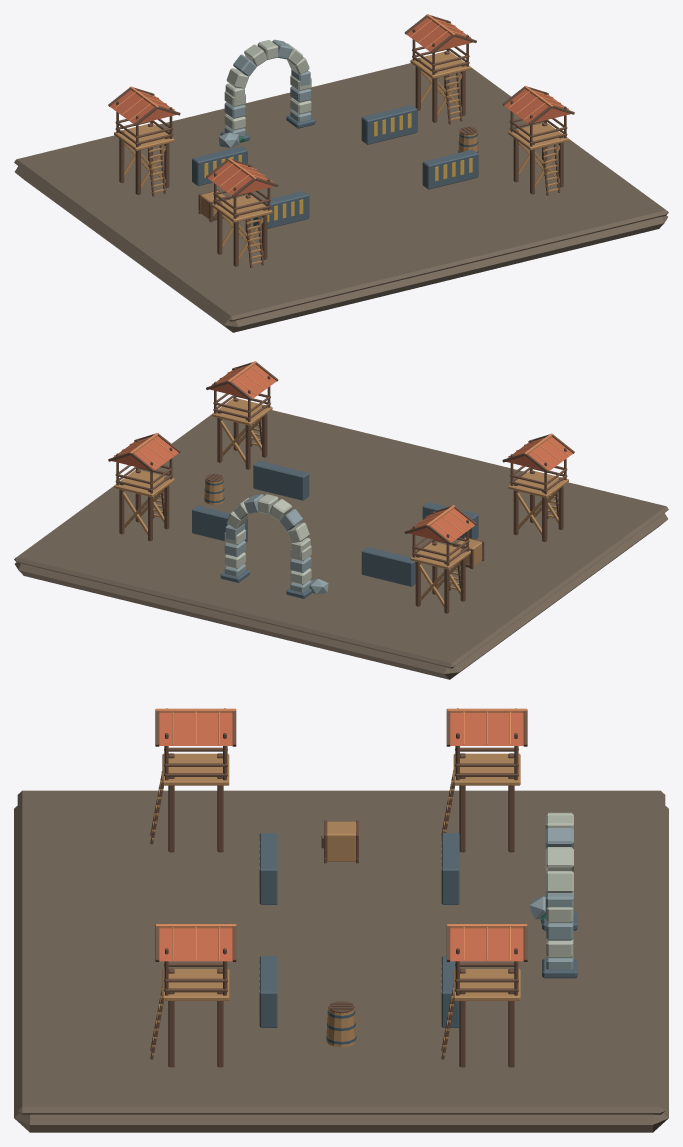
Rendered from world-arena.glb.
The picture shows the model from 3 angles, top to bottom: view 1: azimuth 30°, elevation 25°; view 2: azimuth 150°, elevation 25°; view 3: azimuth 270°, elevation 25°; orthographic projection. The views are drawn at different scales.
Visible parts, largest first — view 1: terrain-top, terrain-stratum, barrier.003, barrier.004, tower-canopy.003, tower-canopy.002, tower-canopy.004, tower-canopy.001, barrier.001, barrier.002, tower-deck.001, tower-deck.004 (+2 smaller); view 2: terrain-top, terrain-stratum, barrier.003, barrier.002, tower-canopy.004, tower-canopy.001, tower-canopy.003, tower-canopy.002, barrier.004, tower-deck.002, tower-deck.003, tower-deck.004 (+2 smaller); view 3: terrain-top, terrain-stratum, tower-canopy.003, tower-canopy.004, tower-canopy.001, tower-canopy.002, tower-deck.003, tower-deck.004, tower-deck.001, tower-deck.002, barrier.001, barrier.002 (+6 smaller).
Boxes of the visible parts, x1=… form: terrain-top: x1=14, y1=63, x2=668, y2=321; terrain-stratum: x1=15, y1=166, x2=667, y2=332; barrier.003: x1=422, y1=149, x2=478, y2=189; barrier.004: x1=361, y1=105, x2=417, y2=144; tower-canopy.003: x1=504, y1=89, x2=570, y2=123; tower-canopy.002: x1=109, y1=90, x2=176, y2=123; tower-canopy.004: x1=406, y1=17, x2=472, y2=51; tower-canopy.001: x1=207, y1=161, x2=273, y2=195; barrier.001: x1=253, y1=191, x2=309, y2=230; barrier.002: x1=192, y1=146, x2=247, y2=186; tower-deck.001: x1=212, y1=195, x2=272, y2=222; tower-deck.004: x1=410, y1=51, x2=470, y2=78; terrain-top: x1=14, y1=410, x2=668, y2=668; terrain-stratum: x1=15, y1=513, x2=667, y2=679; barrier.003: x1=253, y1=460, x2=309, y2=500; barrier.002: x1=361, y1=547, x2=415, y2=586; tower-canopy.004: x1=112, y1=436, x2=178, y2=470; tower-canopy.001: x1=506, y1=437, x2=573, y2=470; tower-canopy.003: x1=210, y1=364, x2=276, y2=398; tower-canopy.002: x1=409, y1=508, x2=475, y2=542; barrier.004: x1=192, y1=505, x2=247, y2=542; tower-deck.002: x1=410, y1=542, x2=470, y2=569; tower-deck.003: x1=212, y1=398, x2=272, y2=425; tower-deck.004: x1=114, y1=470, x2=174, y2=497; terrain-top: x1=17, y1=790, x2=665, y2=1114; terrain-stratum: x1=14, y1=806, x2=668, y2=1132; tower-canopy.003: x1=159, y1=928, x2=232, y2=961; tower-canopy.004: x1=450, y1=928, x2=523, y2=961; tower-canopy.001: x1=159, y1=713, x2=232, y2=745; tower-canopy.002: x1=450, y1=713, x2=523, y2=745; tower-deck.003: x1=162, y1=969, x2=229, y2=1000; tower-deck.004: x1=453, y1=969, x2=520, y2=1000; tower-deck.001: x1=162, y1=753, x2=229, y2=785; tower-deck.002: x1=453, y1=753, x2=520, y2=785; barrier.001: x1=259, y1=833, x2=277, y2=904; barrier.002: x1=441, y1=833, x2=459, y2=904.
Bounding box in the file's own units: 21 × 4.88 × 18.
